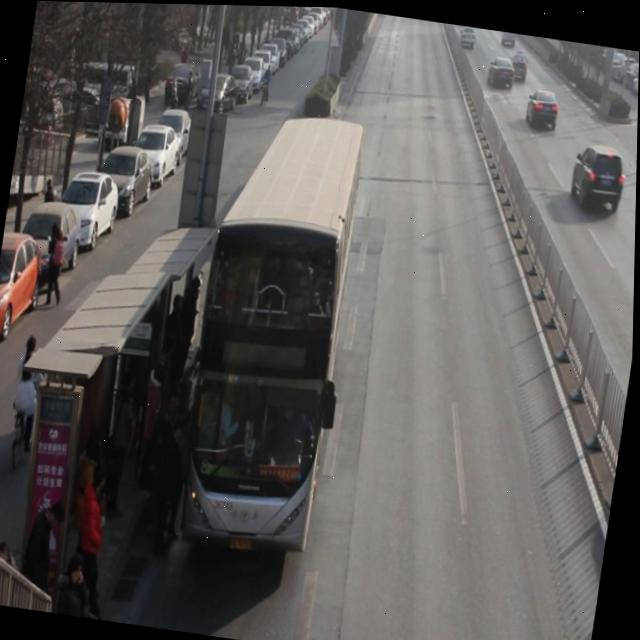car: (568, 141, 631, 217), (523, 86, 563, 134), (486, 54, 517, 93), (507, 49, 531, 83), (457, 26, 477, 51)
truck: (499, 28, 516, 47)
van: (172, 118, 367, 562)
